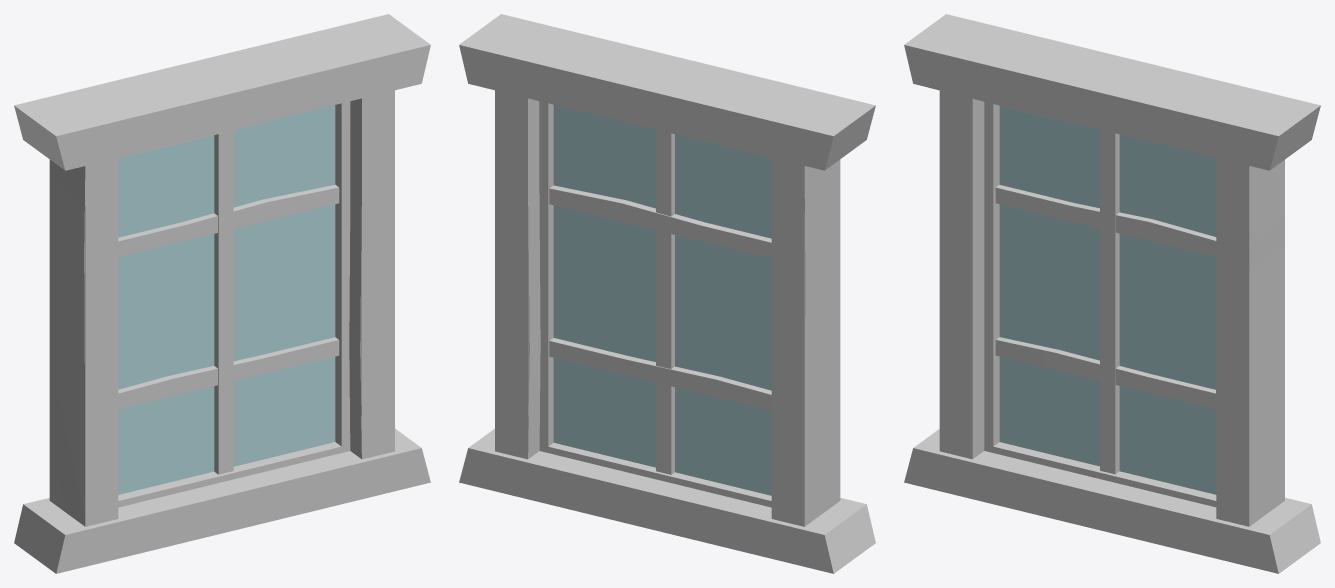
File: Window_2_Small.fbx
3 views of the same model, side by side, from view 1: azimuth 30°, elevation 25°; view 2: azimuth 150°, elevation 25°; view 3: azimuth 330°, elevation 25° (orthographic).
Visible parts, largest first — view 1: Window_2_Small_LOD0, Window_2_Small_Glass, Window_2_Small; view 2: Window_2_Small_LOD0, Window_2_Small_Glass, Window_2_Small; view 3: Window_2_Small_LOD0, Window_2_Small_Glass, Window_2_Small.
Boxes of the visible parts, bbox=[...] form: Window_2_Small_LOD0: bbox=[14, 14, 430, 573]; Window_2_Small_Glass: bbox=[118, 105, 335, 494]; Window_2_Small: bbox=[21, 98, 361, 573]; Window_2_Small_LOD0: bbox=[459, 14, 875, 573]; Window_2_Small_Glass: bbox=[553, 105, 771, 495]; Window_2_Small: bbox=[528, 99, 875, 556]; Window_2_Small_LOD0: bbox=[904, 14, 1320, 573]; Window_2_Small_Glass: bbox=[999, 106, 1216, 494]; Window_2_Small: bbox=[929, 87, 1320, 525].
Bounding box in the file's own units: 90.84 × 102 × 17.7.
